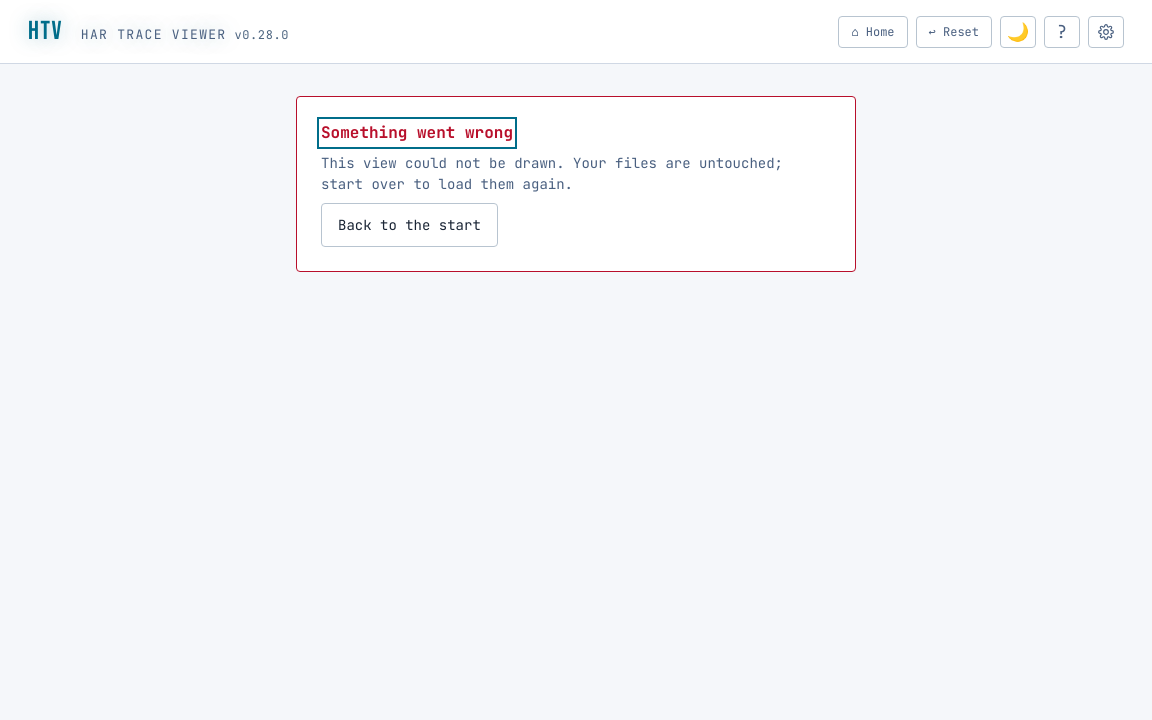
Test case: ViewErrorBoundary › returns the app to the start screen when the diagram view throws
The image size is (1152, 720).
Expected: the heading "Something went wrong" is shown, [321, 121, 513, 145]
Expected: the header is shown, [0, 0, 1151, 64]
Click the button "Back to the start": click(409, 225) [321, 203, 498, 247]
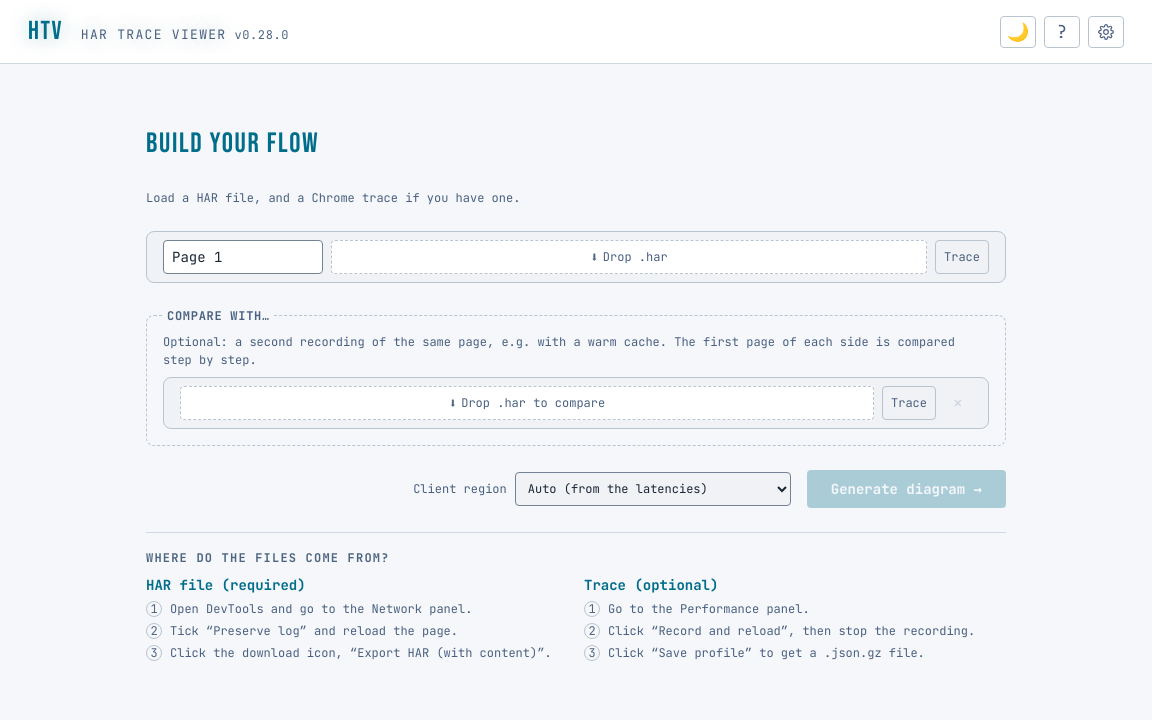
Result: the heading "Build your flow" is shown at [146, 126, 319, 160]
